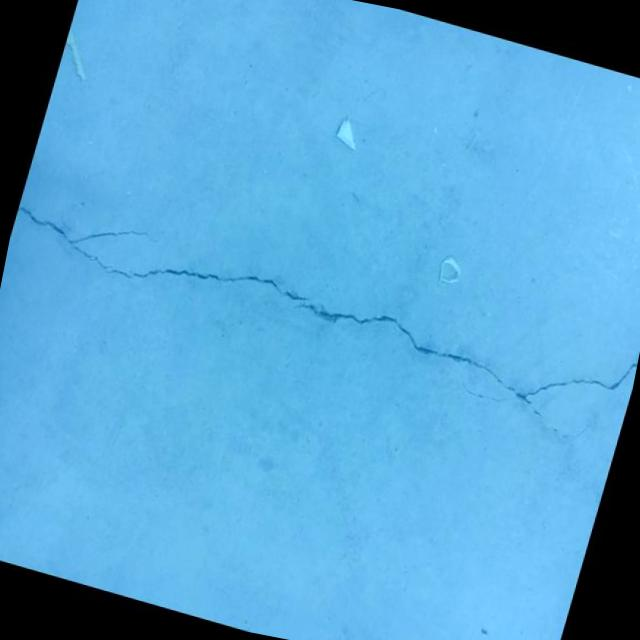crack: (0, 184, 640, 455)
